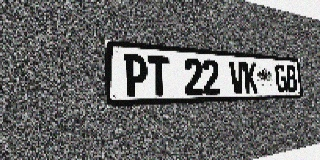2: (184, 58, 203, 95), (202, 59, 220, 95)
B: (285, 65, 298, 92)
G: (275, 64, 288, 93)
K: (243, 62, 258, 93)
P: (123, 53, 148, 97)
T: (148, 55, 170, 96)
V: (229, 61, 245, 94)
